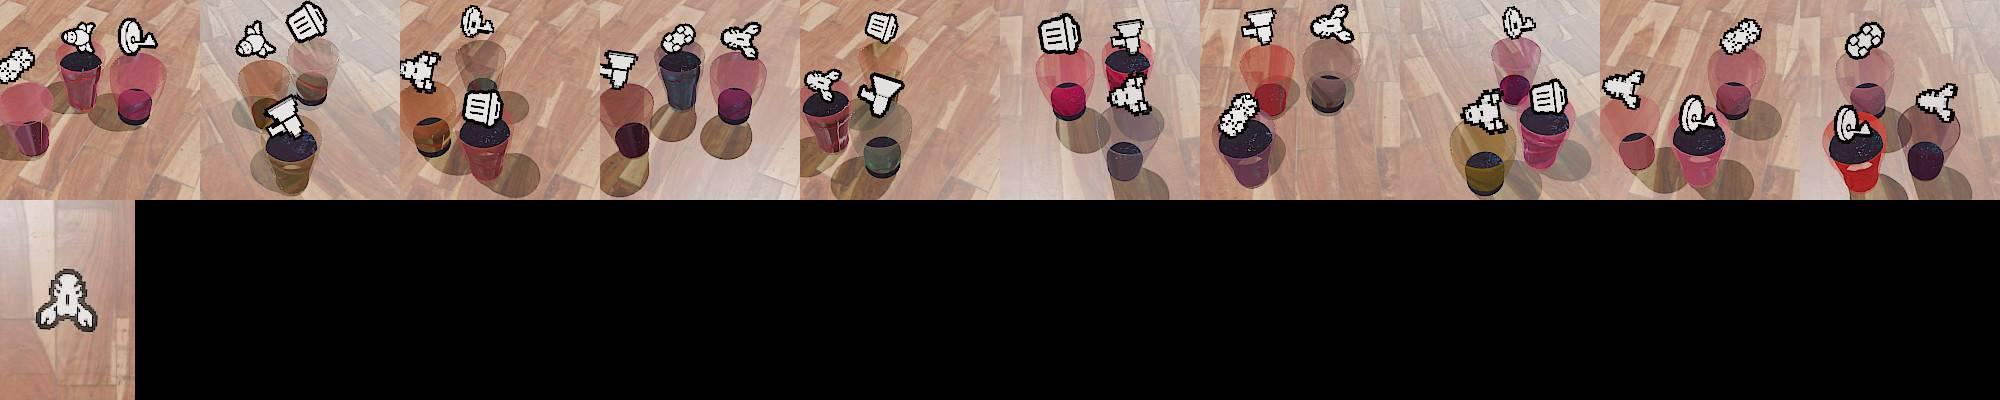icon: (34, 267, 99, 333), (1459, 86, 1508, 135), (857, 71, 905, 118), (263, 93, 308, 139), (1106, 70, 1151, 115), (1038, 12, 1083, 57), (1219, 91, 1260, 137), (1603, 68, 1645, 110), (461, 88, 505, 128), (286, 1, 327, 43), (400, 50, 440, 93), (1310, 3, 1353, 43), (598, 48, 639, 89), (1718, 18, 1762, 56), (1915, 83, 1959, 121), (1678, 92, 1718, 133), (1835, 103, 1876, 143), (719, 21, 761, 60), (1530, 75, 1569, 117), (235, 21, 277, 60), (117, 18, 158, 56), (1847, 21, 1886, 60), (0, 47, 36, 87), (1241, 8, 1277, 46), (1111, 18, 1147, 55), (803, 67, 843, 100), (659, 22, 698, 55), (1501, 5, 1536, 40), (864, 11, 900, 45), (61, 20, 97, 54), (460, 4, 494, 39)
